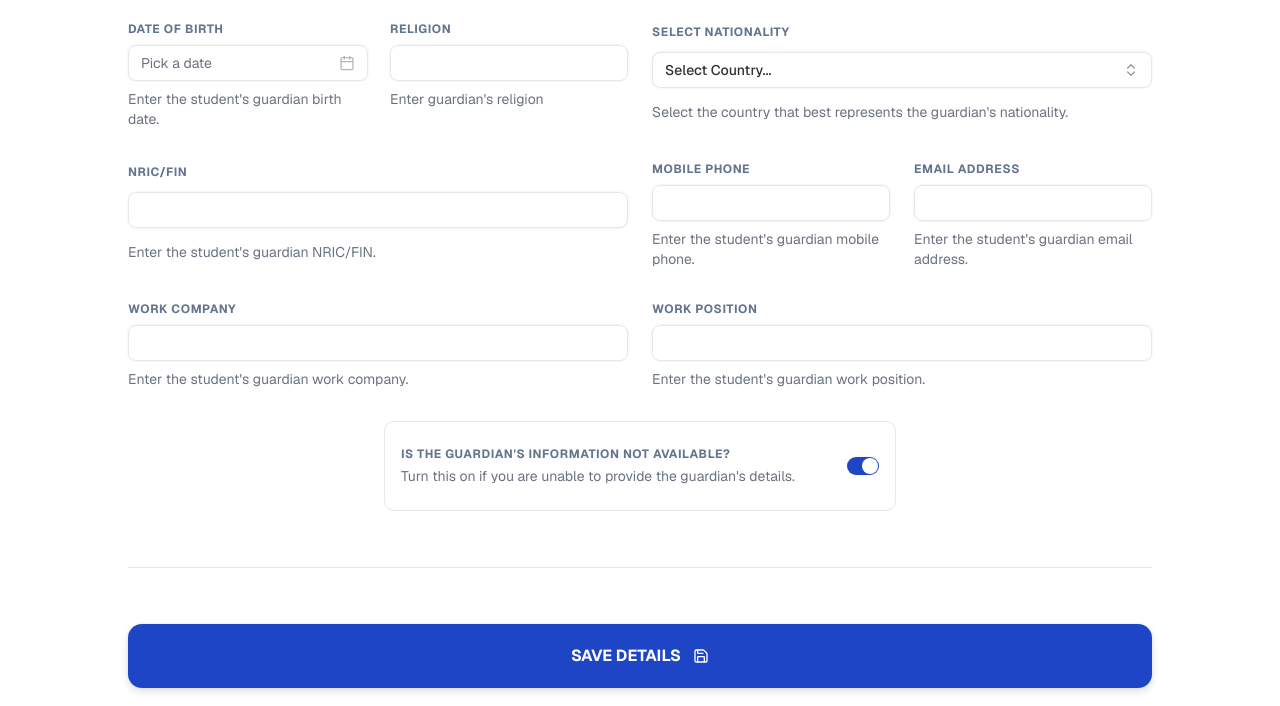
Test: guardian-information.tsx (HFSE old) › restores guardian info from the shared re-enrollment cache when the 'not available' toggle is switched off
(page scrolled)
Click the switch at point(863, 466), box [847, 457, 879, 475]
(page scrolled)
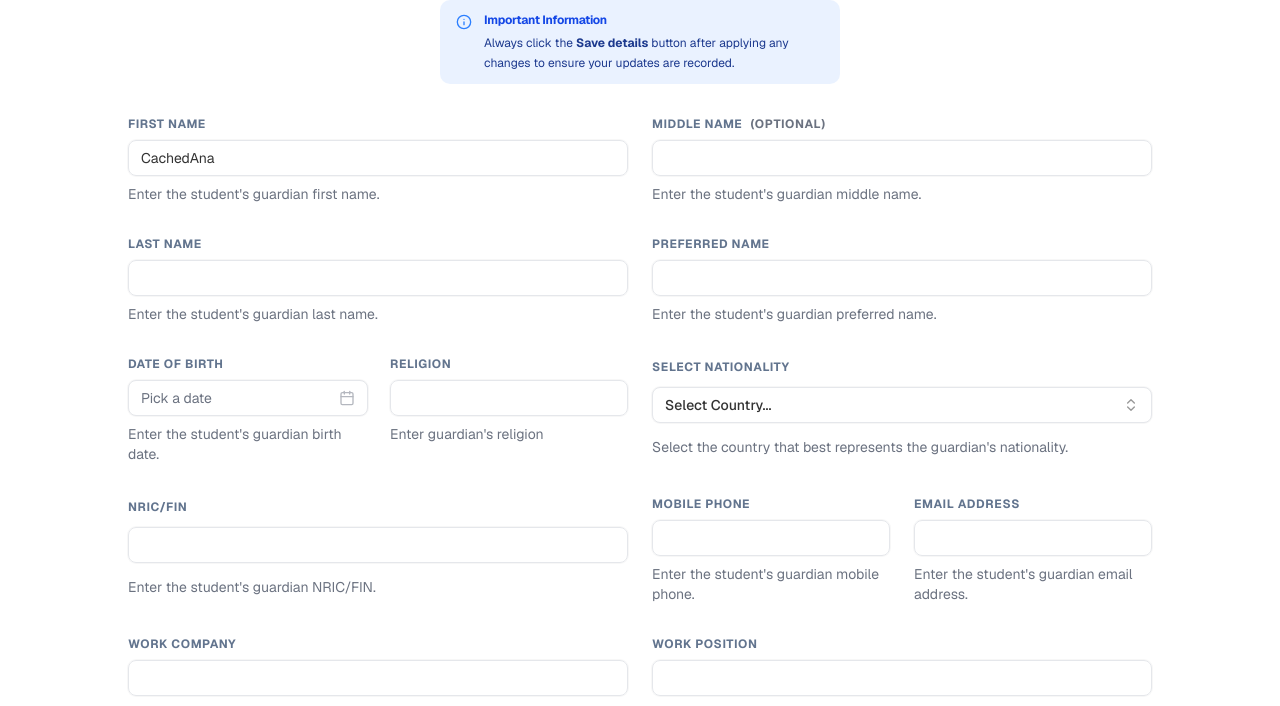
Result: the field labelled "First name" holds "CachedAna" at [128, 140, 628, 176]
